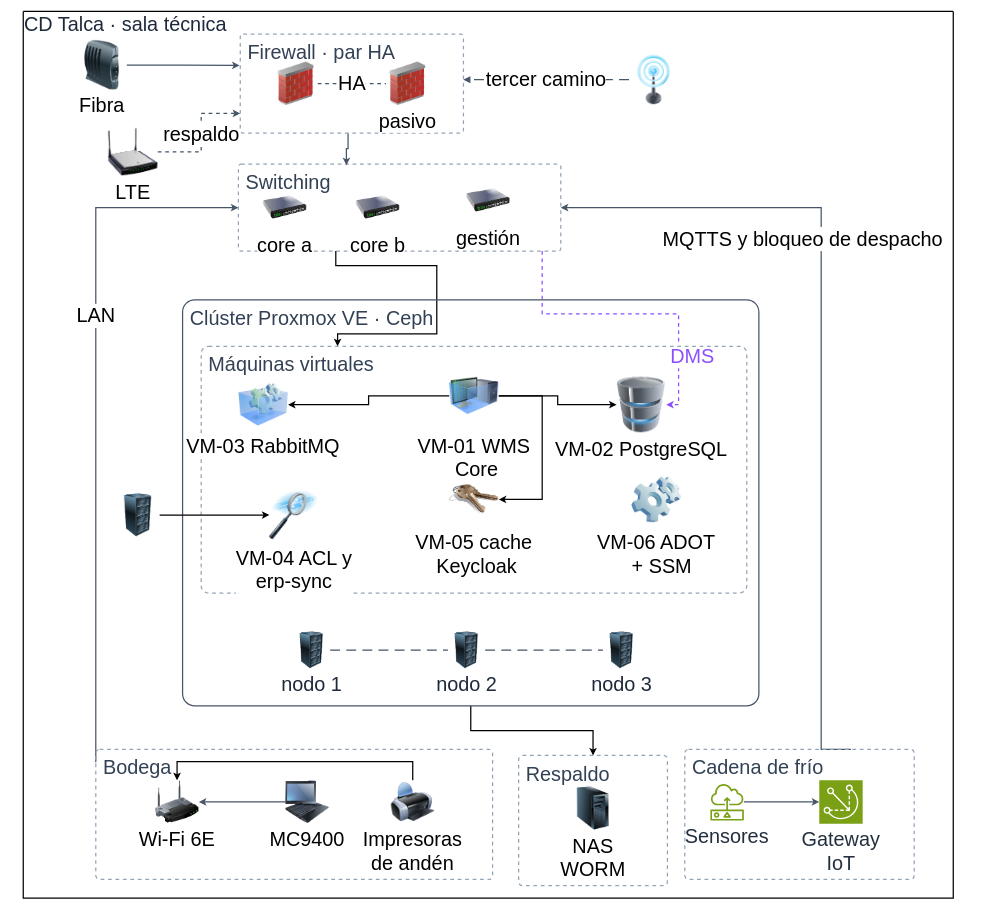
The diagram is 991 pixels wide and 921 high, and some of its shapes have lost their labels. Here are the shapes that lost their labels. From the top down, the centre of each, then its label:
[295,83]: activo
[653,79]: Starlink
[137,514]: ERP 2017
